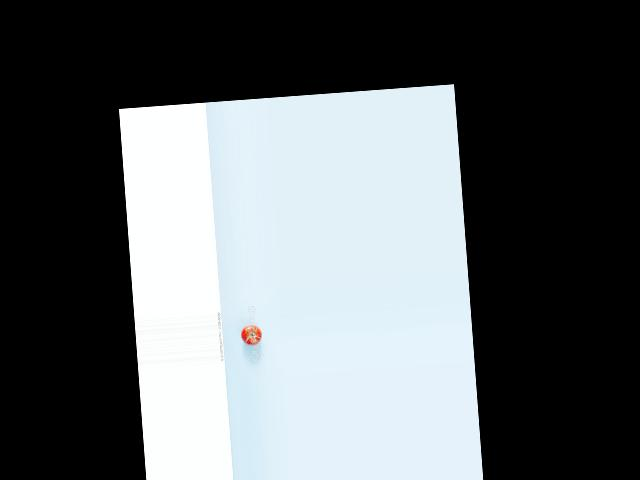tomato: (239, 324, 262, 345)
